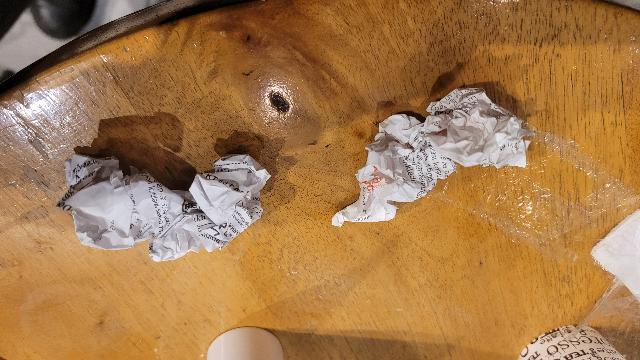Kagit: (331, 87, 528, 238), (53, 150, 272, 263)
